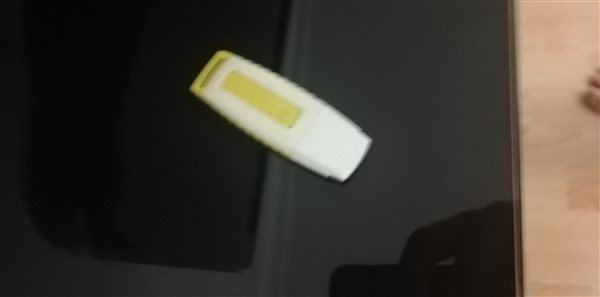flash disk: (186, 44, 373, 195)
